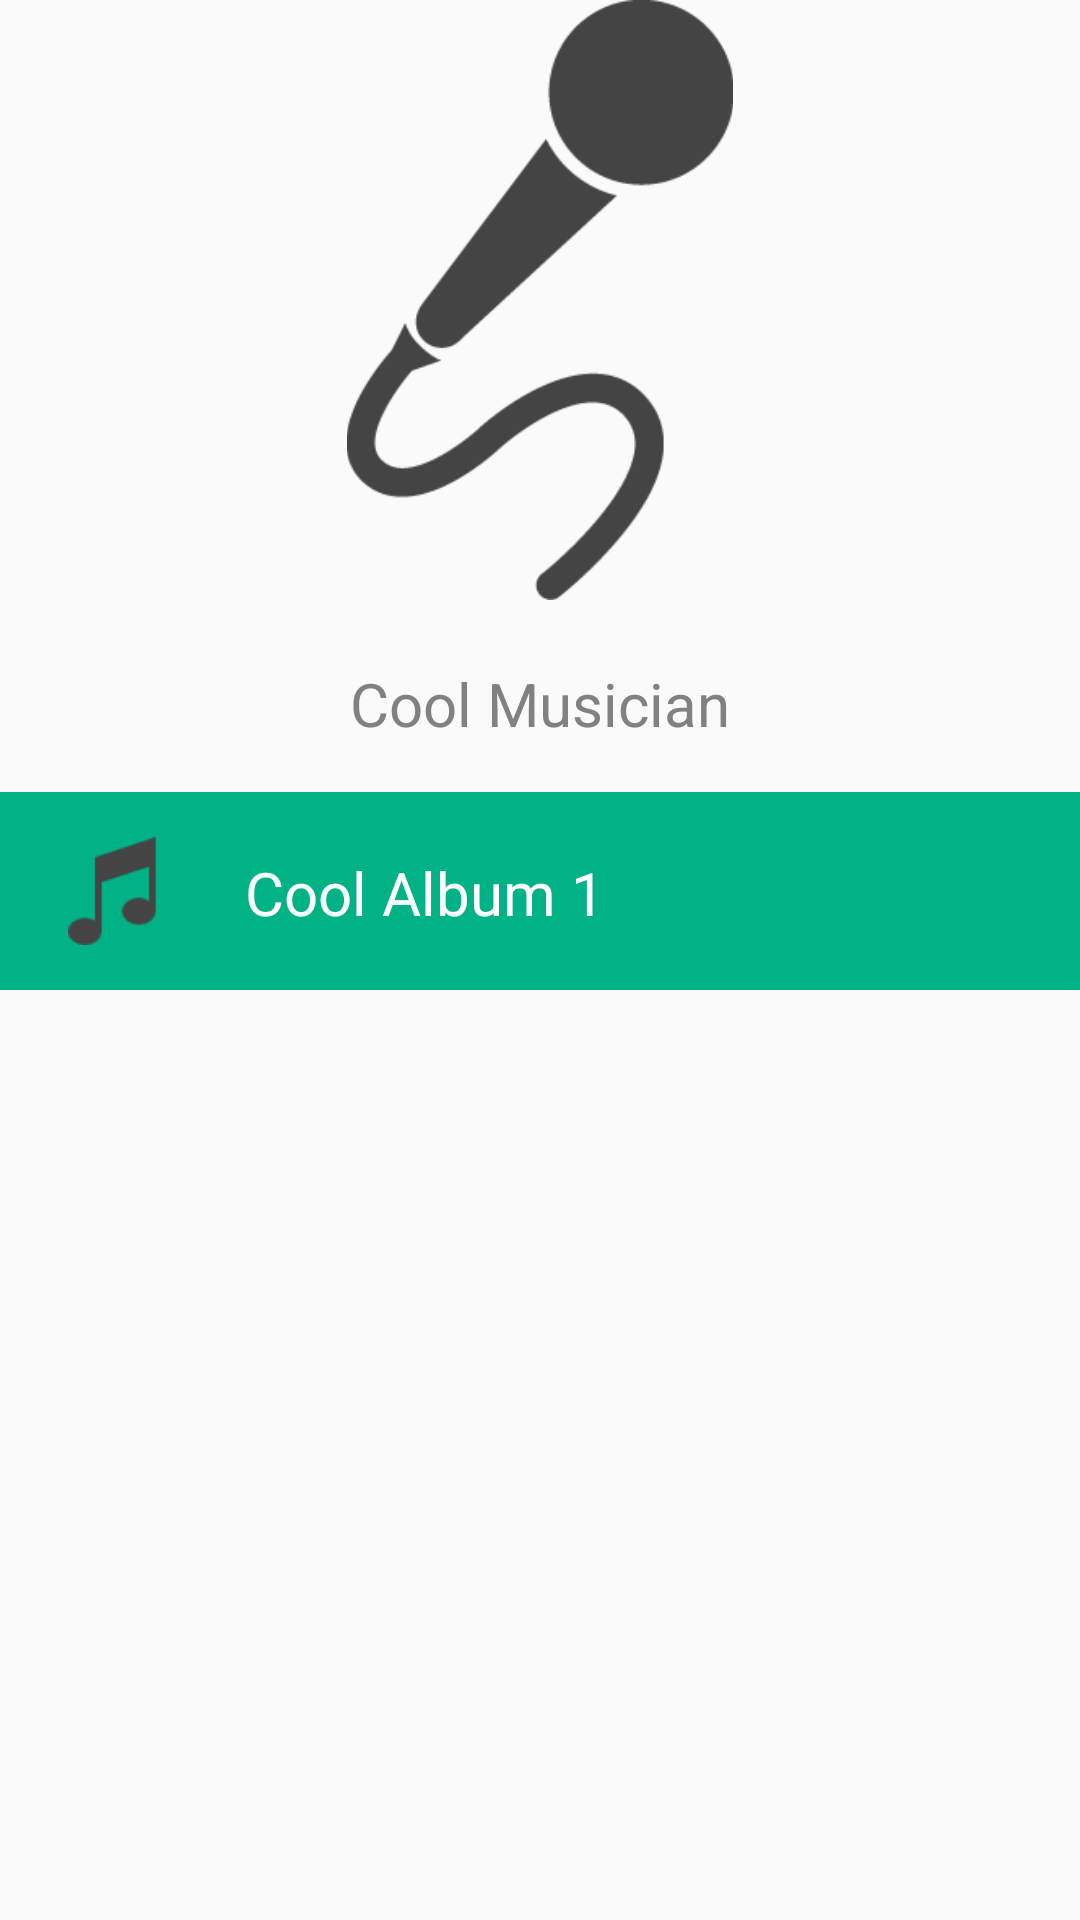

Icons on this 1080 × 1920 Android screen, each with its box as [x1, y1, x2, y2]:
music library: [68, 837, 156, 945]
